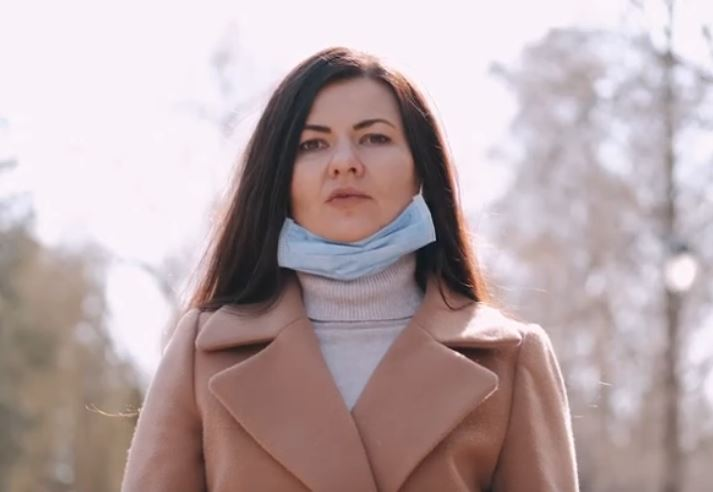without_mask: (292, 119, 402, 223)
